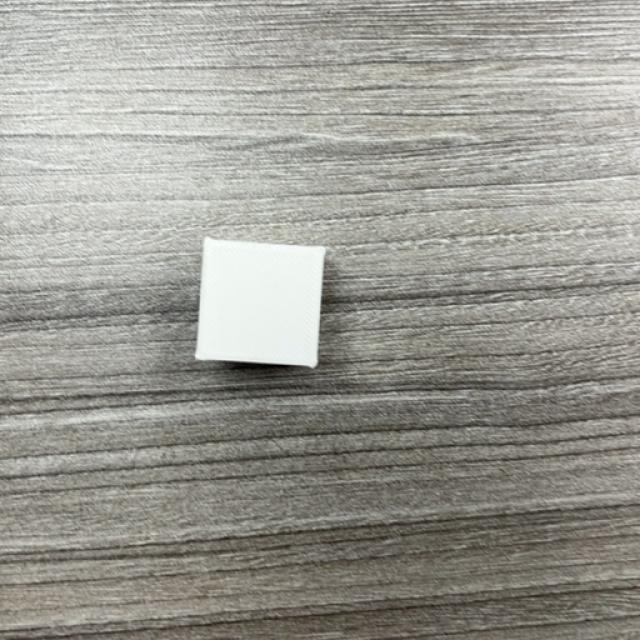Blanco: (195, 240, 328, 371)
